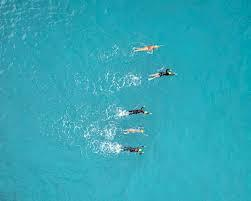swimmer: (114, 143, 148, 157), (117, 125, 153, 138), (145, 70, 178, 82), (118, 106, 154, 116), (131, 44, 163, 53)
